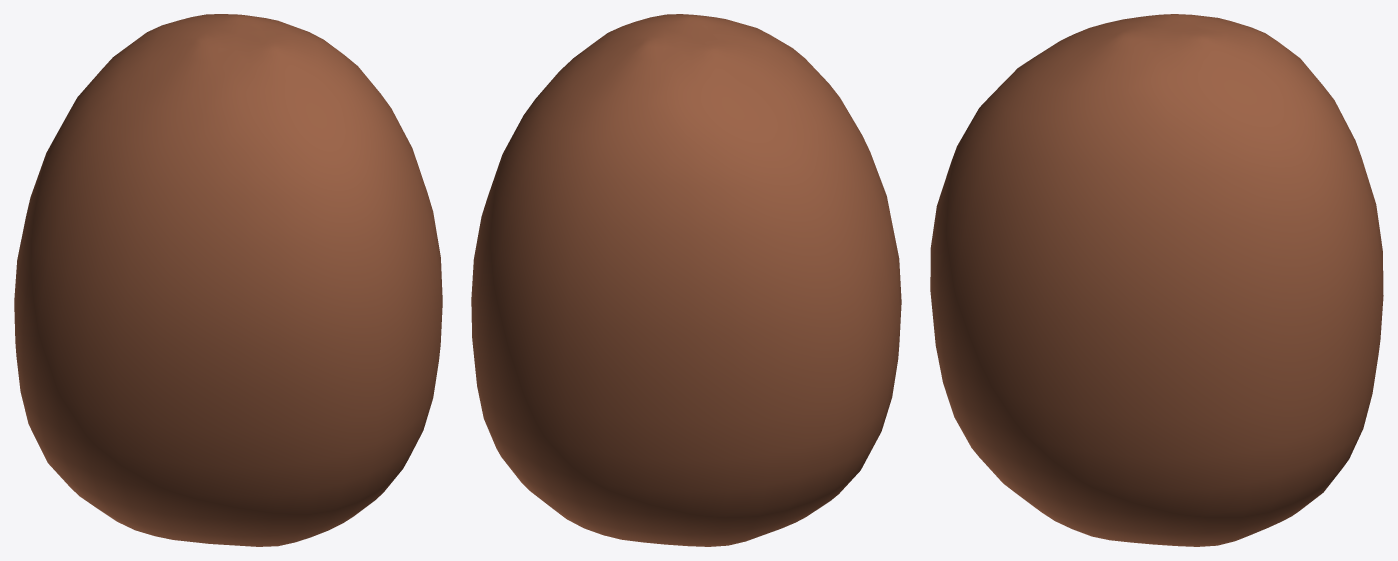
Rendered from Coconut_09.dae.
The picture shows the model from 3 angles, left to right: view 1: azimuth 30°, elevation 25°; view 2: azimuth 150°, elevation 25°; view 3: azimuth 270°, elevation 25°; orthographic projection.
Visible parts, largest first — view 1: Coconut_09_LOD0; view 2: Coconut_09_LOD0; view 3: Coconut_09_LOD0.
Boxes of the visible parts, x1,y1,x2,y2 form: Coconut_09_LOD0: (14, 14, 442, 546); Coconut_09_LOD0: (471, 14, 901, 546); Coconut_09_LOD0: (930, 14, 1383, 546).
Size of what is drawn, in the model's own units: 3.52 by 3.67 by 4.41.
